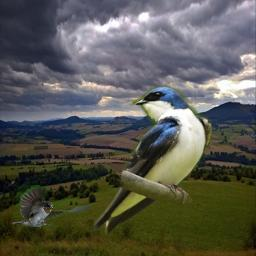Swallow: (91, 85, 213, 235), (12, 185, 93, 227)
